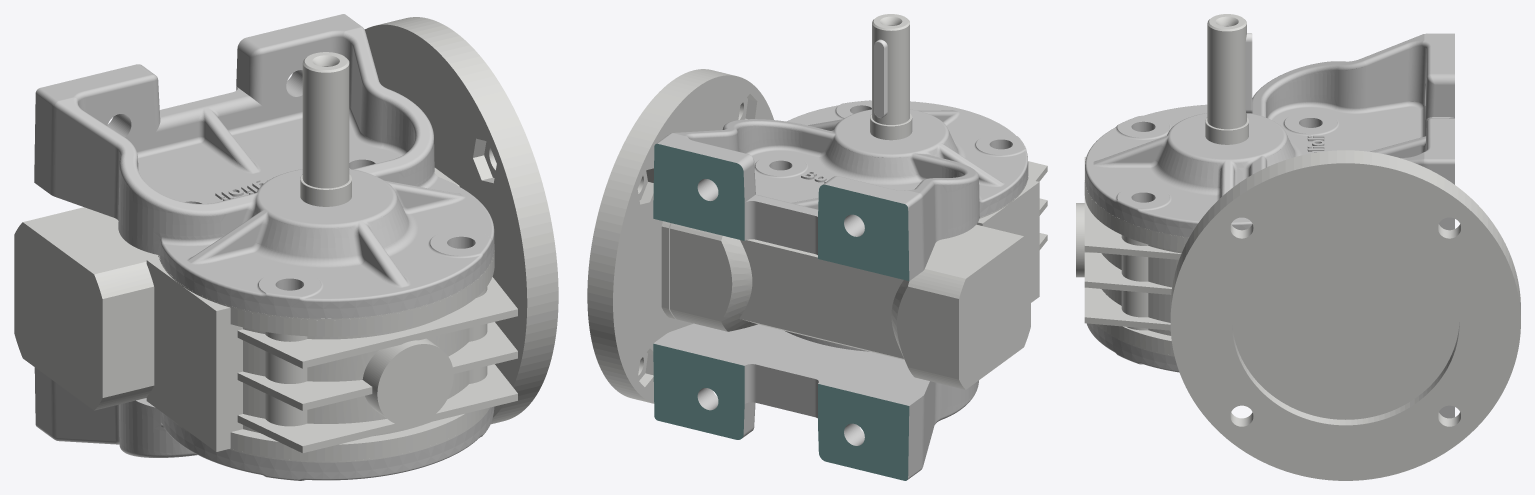
Rendered from Right angle.glb.
The picture shows the model from 3 angles, left to right: view 1: azimuth 30°, elevation 25°; view 2: azimuth 150°, elevation 25°; view 3: azimuth 270°, elevation 25°; orthographic projection. The views are drawn at different scales.
Visible parts, largest first — view 1: Node2, Node1; view 2: Node2, Node1, Node3, Node4; view 3: Node2, Node1, Node4.
Boxes of the visible parts, bbox=[...] form: Node2: bbox=[14, 17, 558, 462]; Node1: bbox=[34, 14, 494, 480]; Node2: bbox=[587, 14, 1047, 403]; Node1: bbox=[653, 100, 1028, 479]; Node3: bbox=[653, 143, 909, 480]; Node4: bbox=[874, 39, 887, 118]; Node2: bbox=[1076, 14, 1520, 480]; Node1: bbox=[1085, 33, 1454, 418]; Node4: bbox=[1245, 33, 1252, 113].
Bounding box in the file's own units: 88.3 × 95 × 102.
